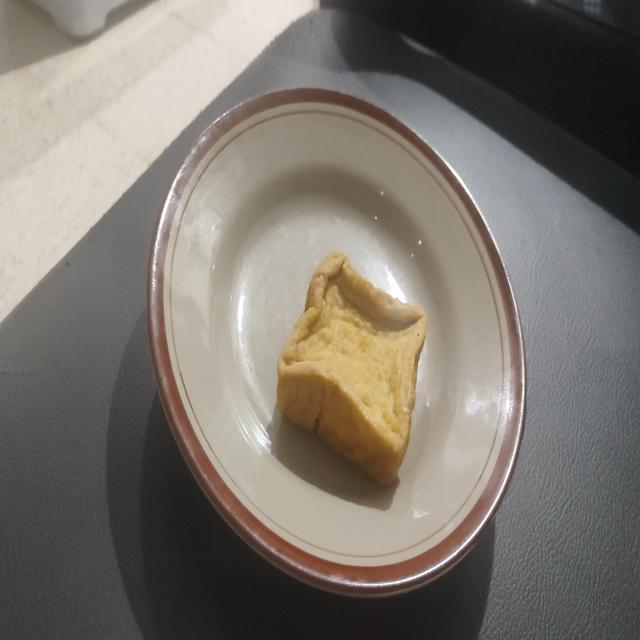tahu_goreng: (277, 251, 427, 486)
